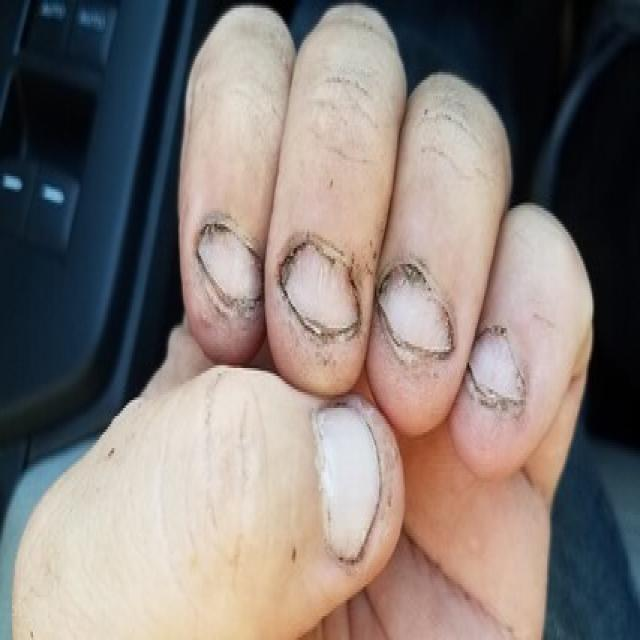Fingernail: (315, 406, 381, 560), (282, 245, 358, 335), (379, 266, 451, 351), (199, 225, 262, 301), (469, 330, 523, 398)
